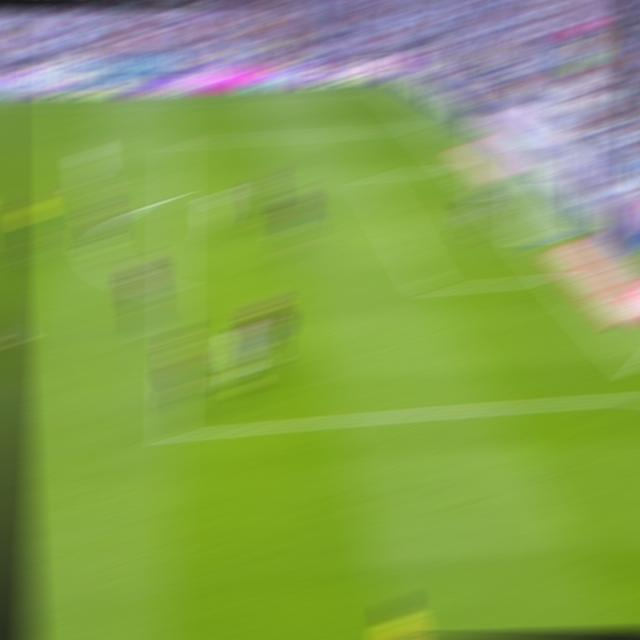bigarea_bottom_inner: (419, 276, 446, 298)
bigarea_top_inner: (357, 170, 381, 182)
bigarea_top_outter: (412, 120, 434, 130)
corner: (377, 84, 401, 90)
smallarea_bottom_outter: (544, 268, 570, 287)
smallarea_top_outter: (448, 160, 471, 172)
